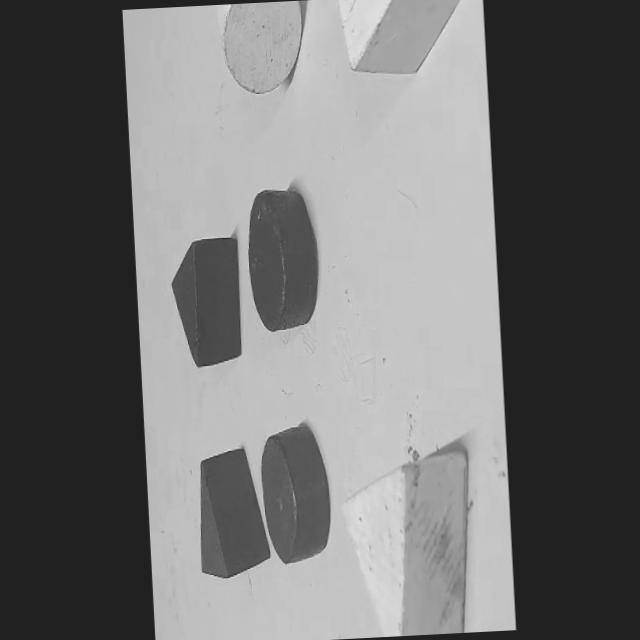bcircle: (244, 184, 322, 338)
btriangle: (168, 235, 246, 374)
rcircle: (260, 423, 334, 567)
rtriangle: (194, 443, 272, 582)
ycircle: (217, 2, 308, 97)
ytriangle: (338, 440, 476, 634)
